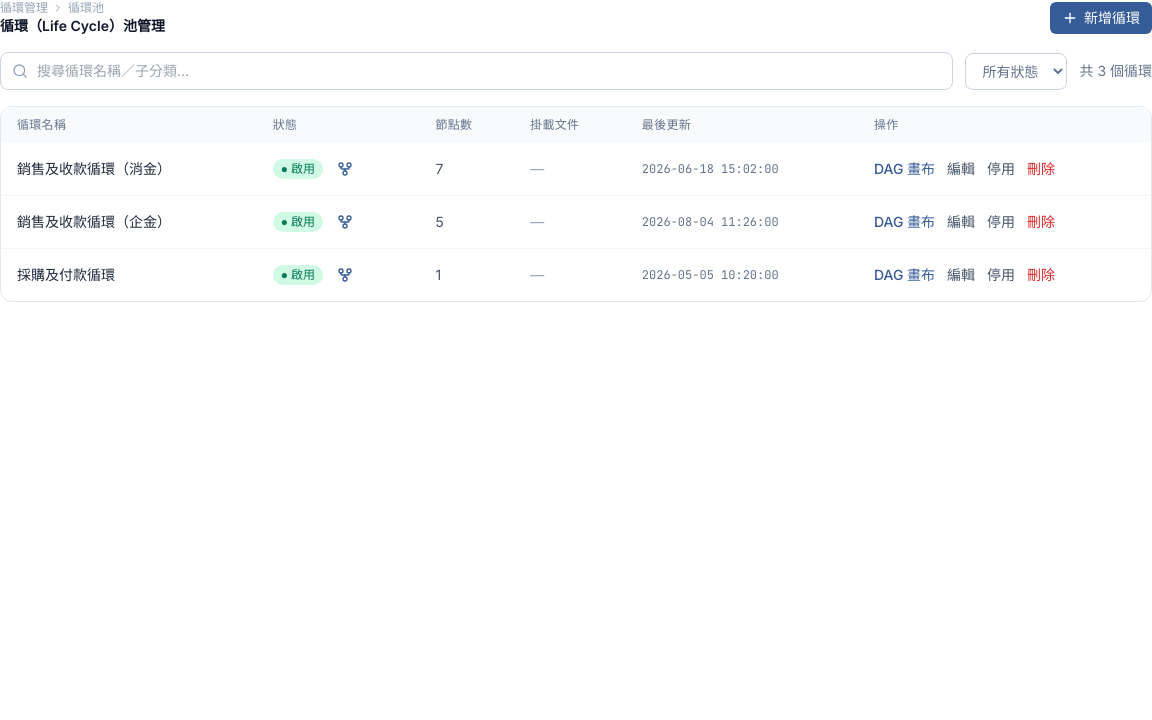
Test: LifecycleListPage — F040 唯一性錯誤提示（F007 AC-S3～AC-S5） › AC-S3 後端回 409 LIFECYCLE_DUPLICATE → 顯示 #lcDupErr 逐字文案（不含錯誤代碼）
Expected: the text "銷售及收款循環（消金）" is shown, [17,160,171,177]
Click the button "新增循環".
click(1101, 18)  # box [1050,2,1151,34]
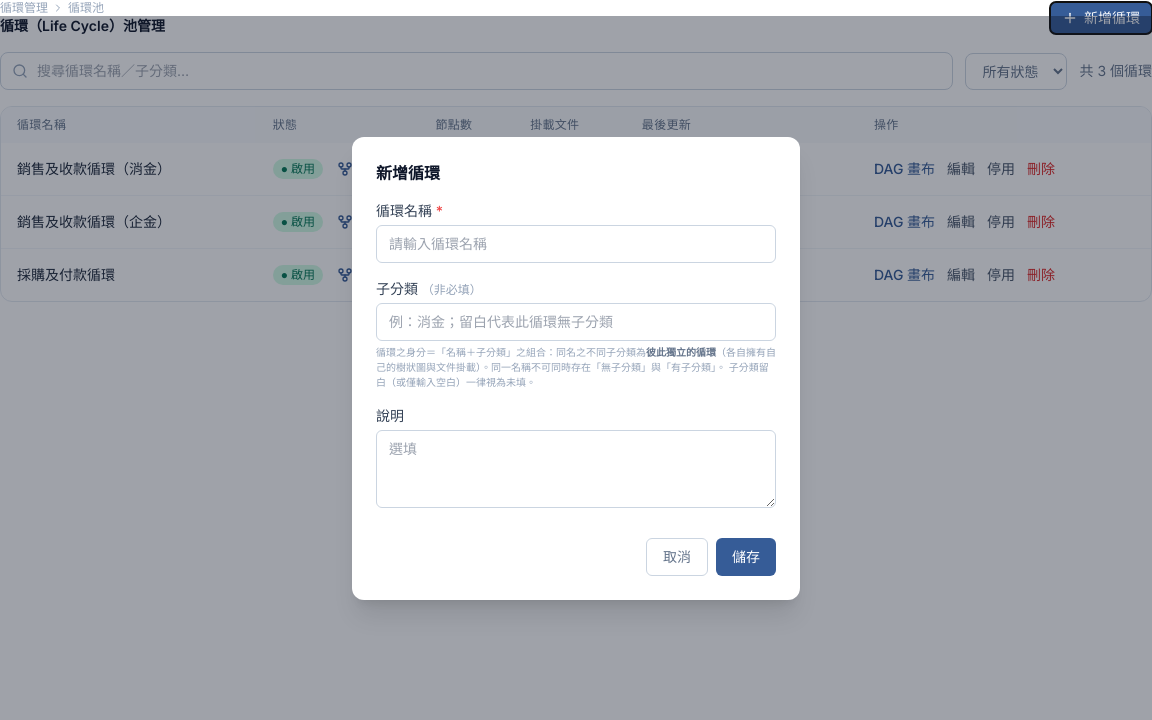
Type "銷售及收款循環" into the field labelled "循環名稱 *".
click(576, 244); type("銷售及收款循環")  # box [376,224,776,262]
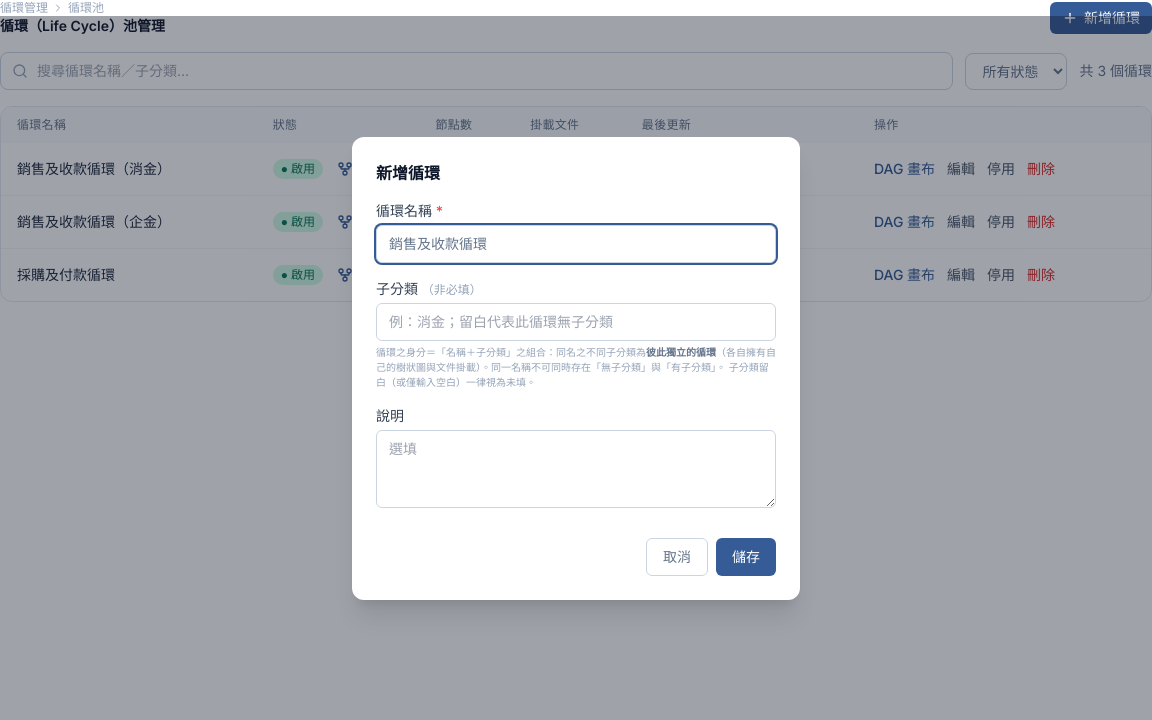
Type "消金" into the field labelled "子分類 （非必填）".
click(576, 322); type("消金")  # box [376,302,776,340]
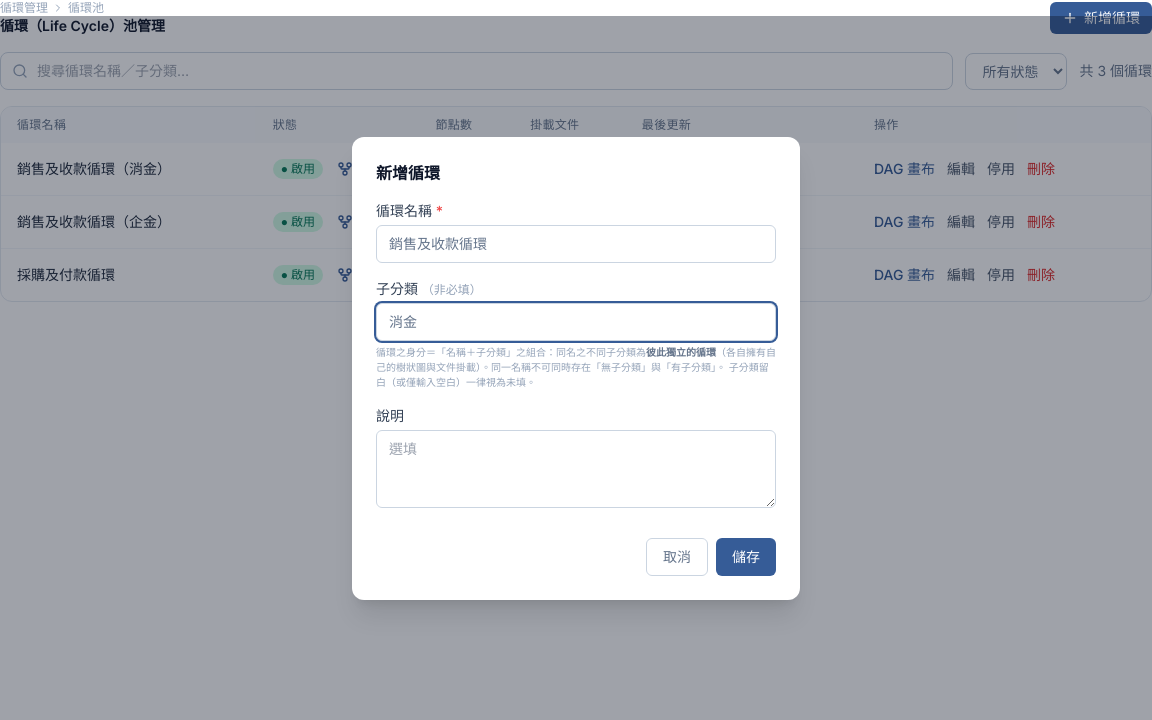
Click the button "儲存".
click(746, 556)  # box [716,538,776,576]
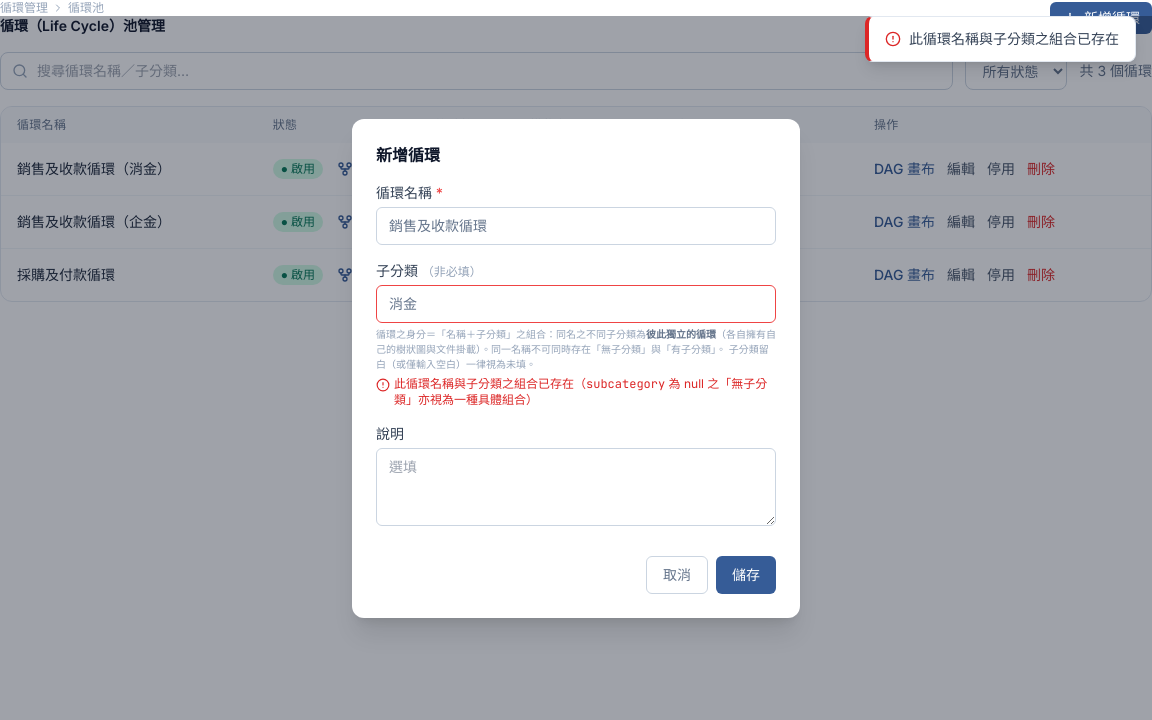
Expected: the element with id "lcDupErr" is shown, [376,376,776,408]
Expected: the element with id "lcDupErr" shows "此循環名稱與子分類之組合已存在", [394,376,586,390]
